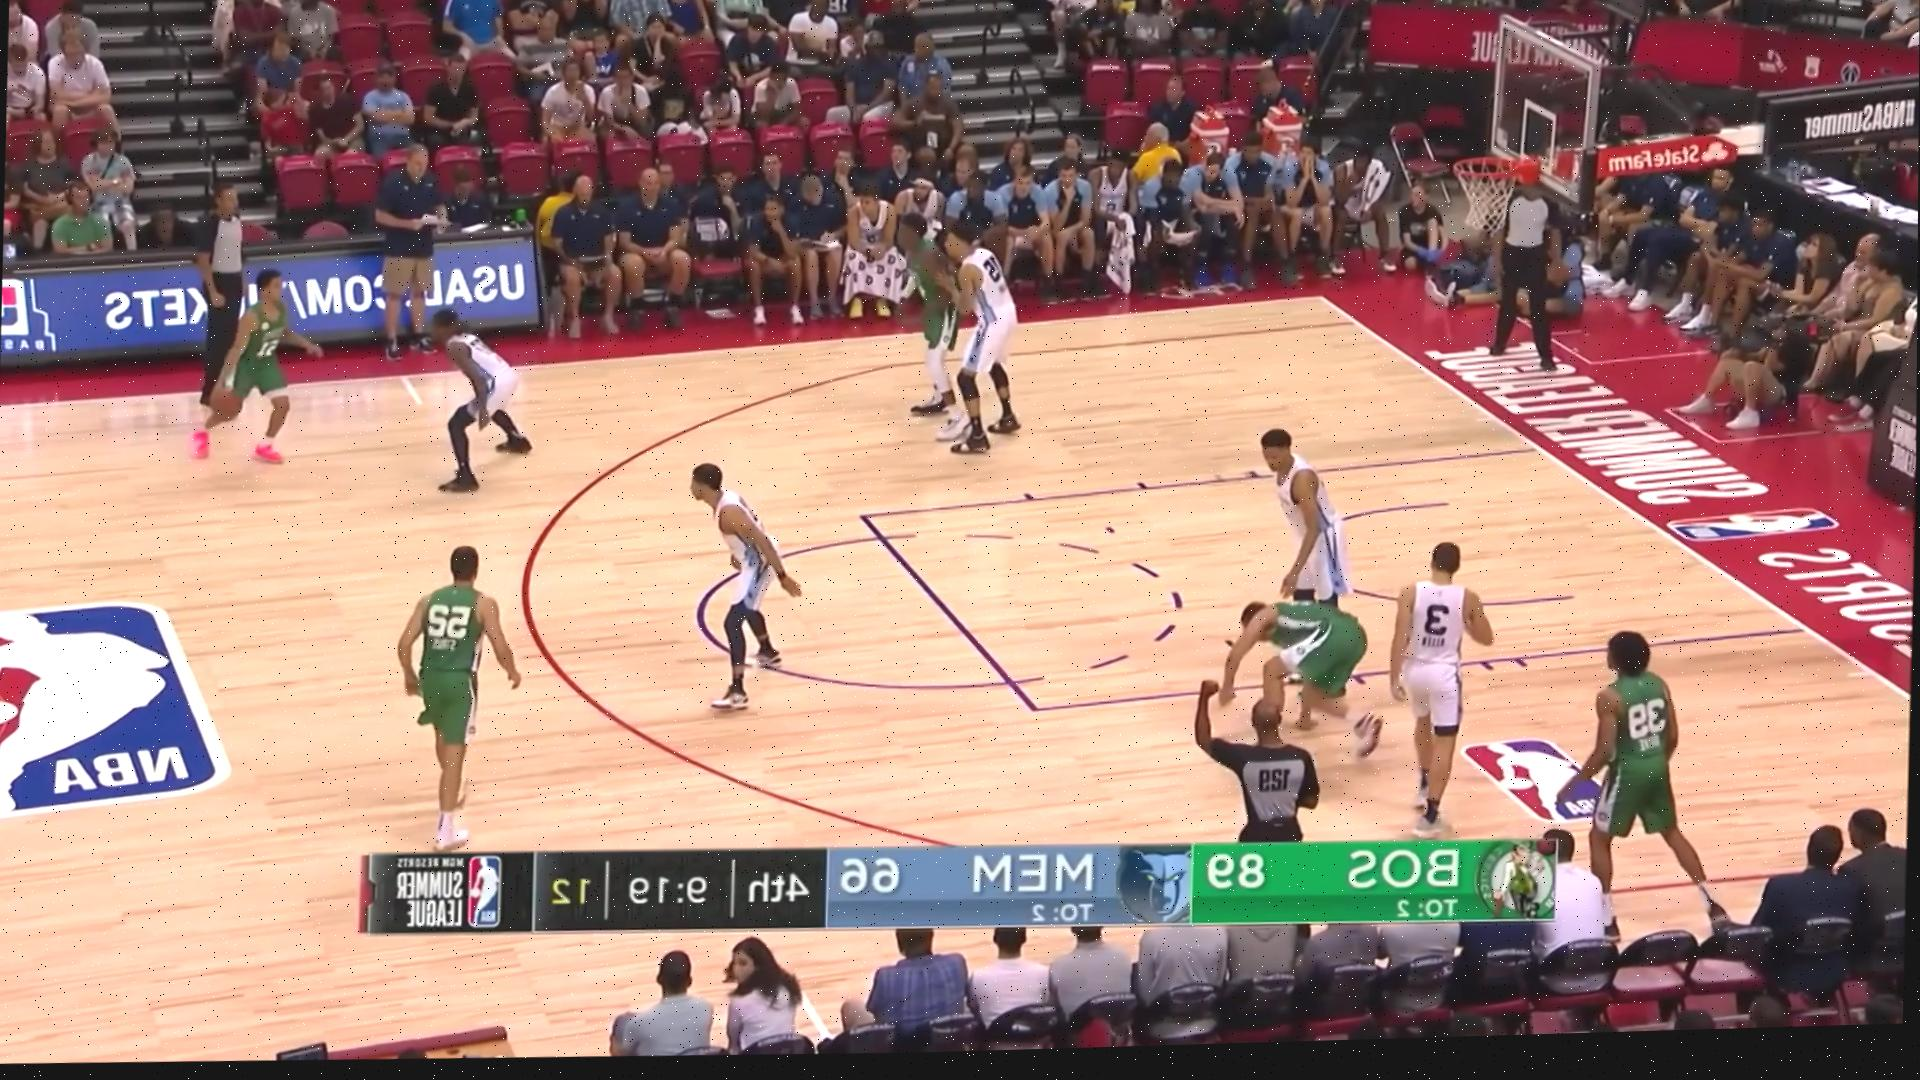foul: (1197, 526, 1511, 777)
